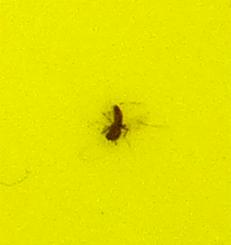Nematocera: (100, 100, 131, 145)
